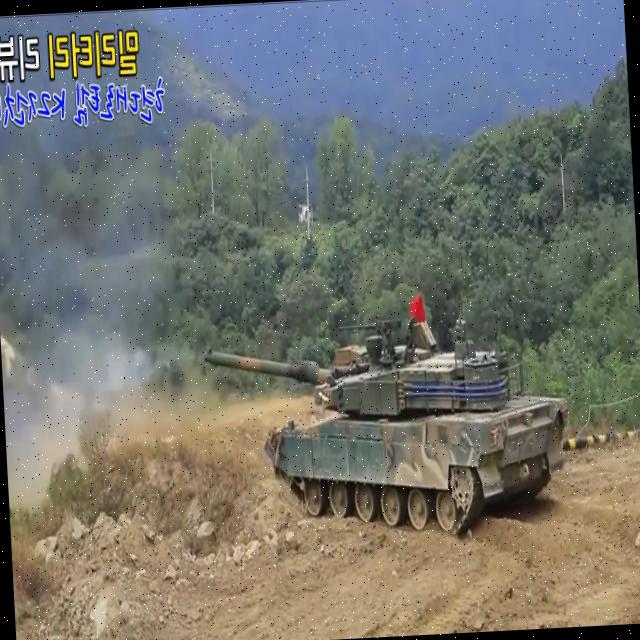korea tank: (200, 296, 578, 548)
